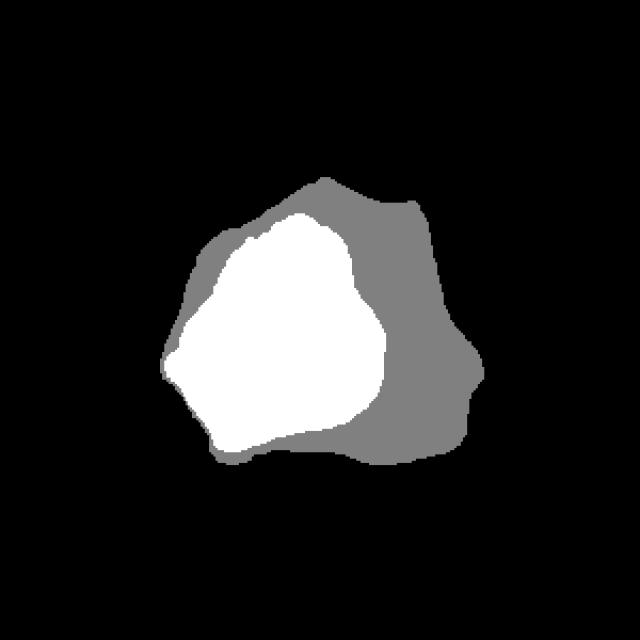WBC: (160, 148, 510, 502)
